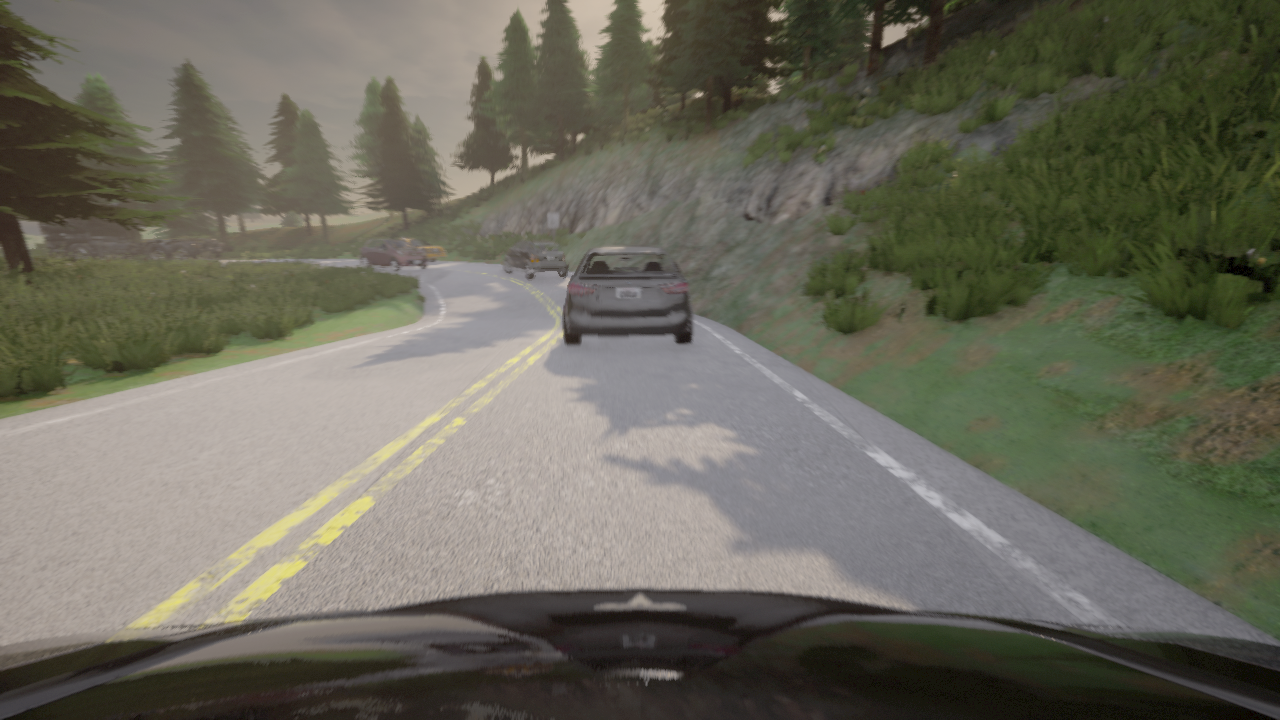cyclist: (0, 588, 1279, 719), (563, 246, 692, 344), (43, 203, 232, 261), (503, 239, 567, 278), (359, 238, 427, 270), (398, 236, 445, 262)
